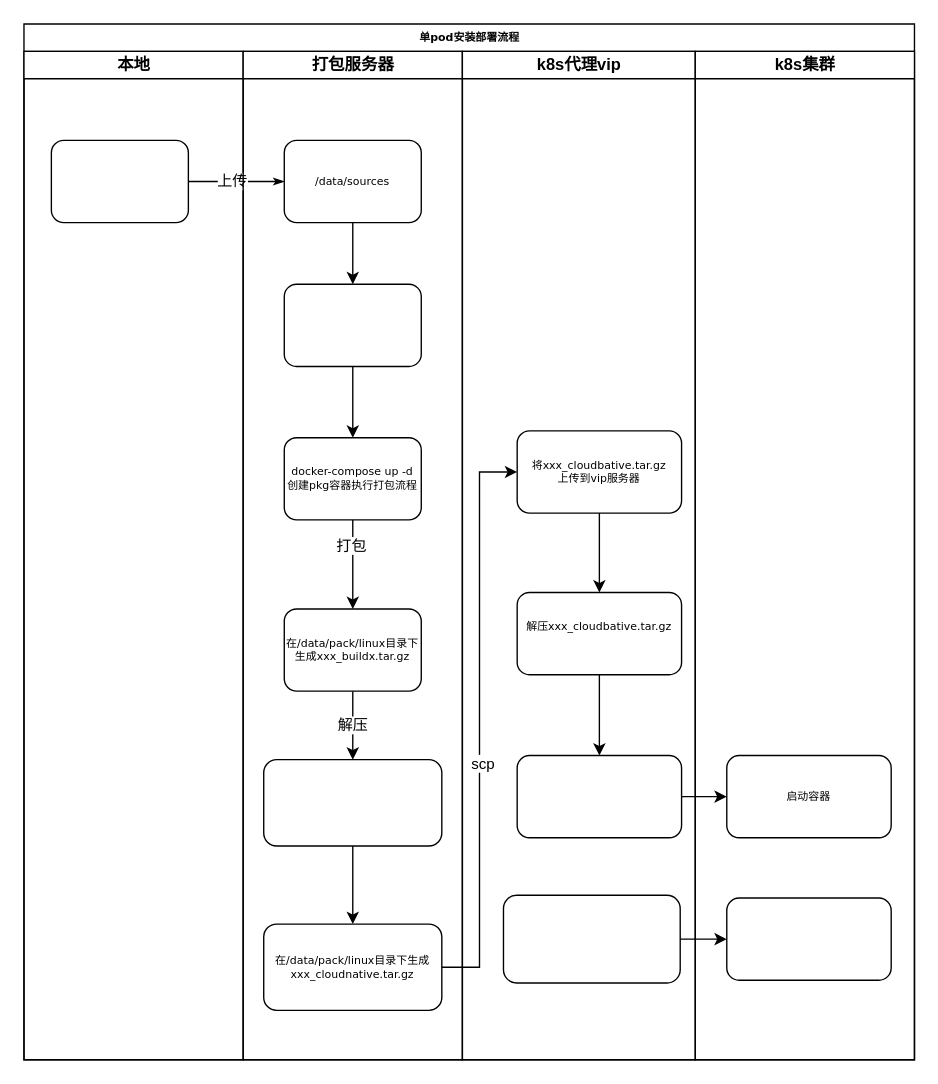
Some shapes in this 938 by 1084 pixel diagram are drawn without their labels. Each missing label, with the centre of its shape:
"停止容器" belongs at [808,938].
"在/data 下 修改docker.properties配置" belongs at [352,324].
"在/scripts目录下，执行启动脚本 ./install --data /安装目录" belongs at [599,796].
"在/tsoc-csa目录下，执行停止脚本 ./uninstall" belongs at [591,938].
"在scripts目录下，修改wrapper.yaml配置 执行脚本 ./wrapper wrapper.yaml" belongs at [352,802].
"打war包" belongs at [119,181].
